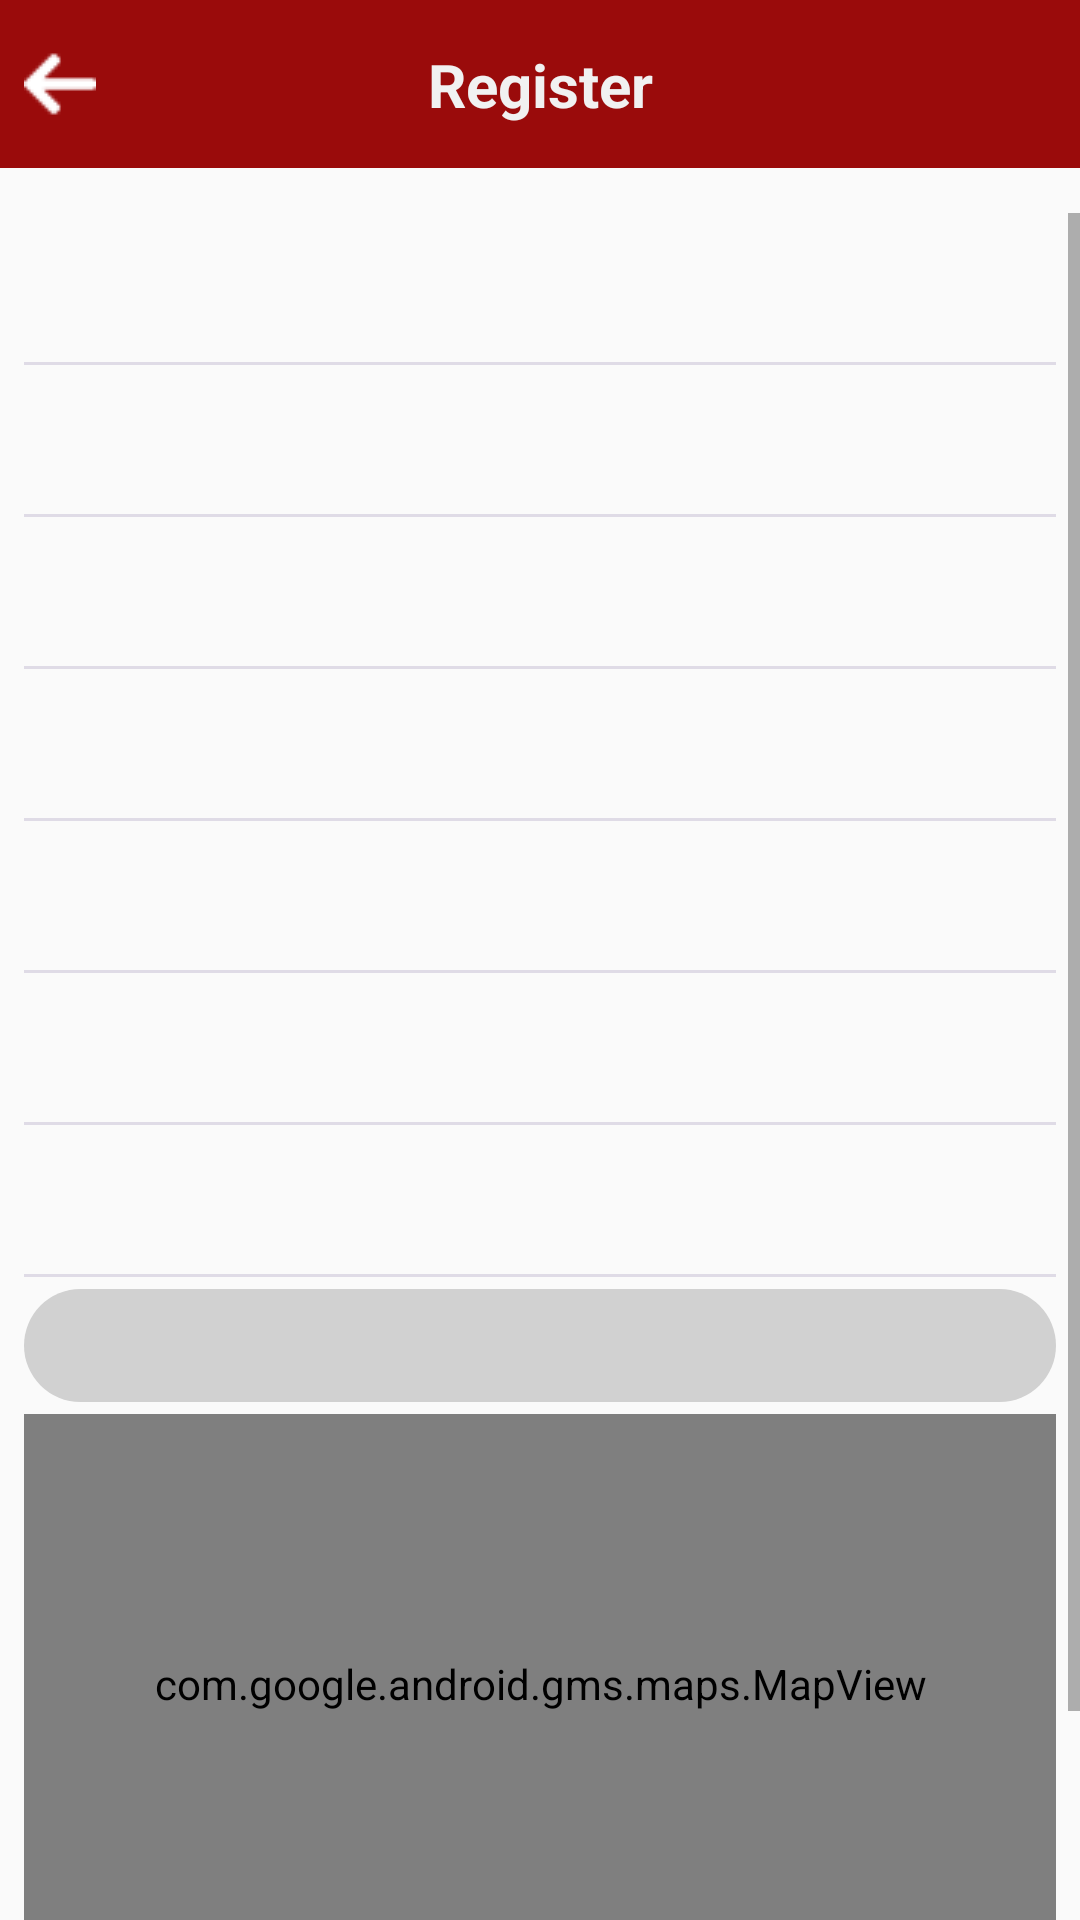

Locate icon controls on the screen. Image size 1080 × 1920, boxes as bbox=[x1, y1, x2, y2].
arrow left: bbox=[24, 53, 96, 115]
